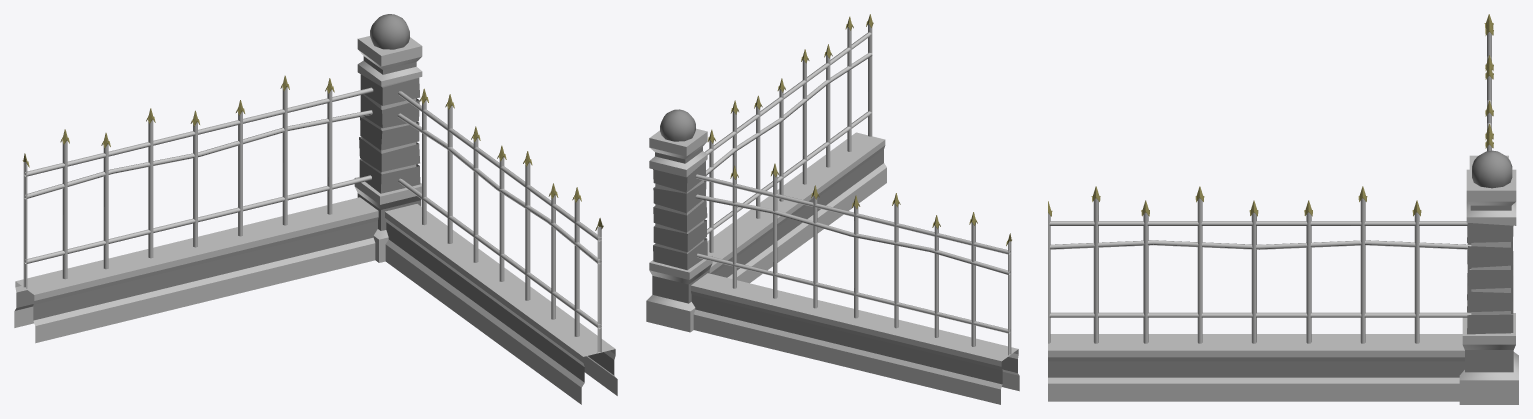
File: Fence_GraveyardCorner_Mod_01.fbx
3 renders of one model, left to right at view 1: azimuth 30°, elevation 25°; view 2: azimuth 150°, elevation 25°; view 3: azimuth 270°, elevation 25°, orthographic. The views are drawn at different scales.
Parts seen in each view (by area): view 1: FenceCorner1; view 2: FenceCorner1; view 3: FenceCorner1.
Boxes of the visible parts, <box> form: FenceCorner1: <box>14,14,617,404</box>; FenceCorner1: <box>646,14,1019,404</box>; FenceCorner1: <box>1048,14,1518,404</box>.
Bounding box in the file's own units: 5.01 × 2.82 × 5.
